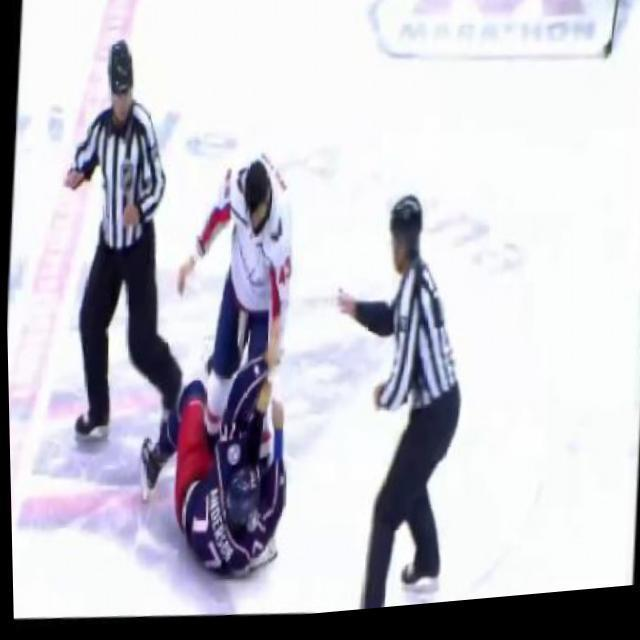fight: (143, 142, 314, 592)
